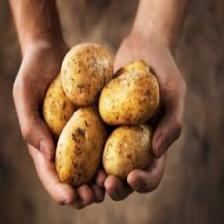Diseased-fungal potato: (97, 58, 163, 128), (56, 104, 110, 189), (60, 38, 116, 108)
